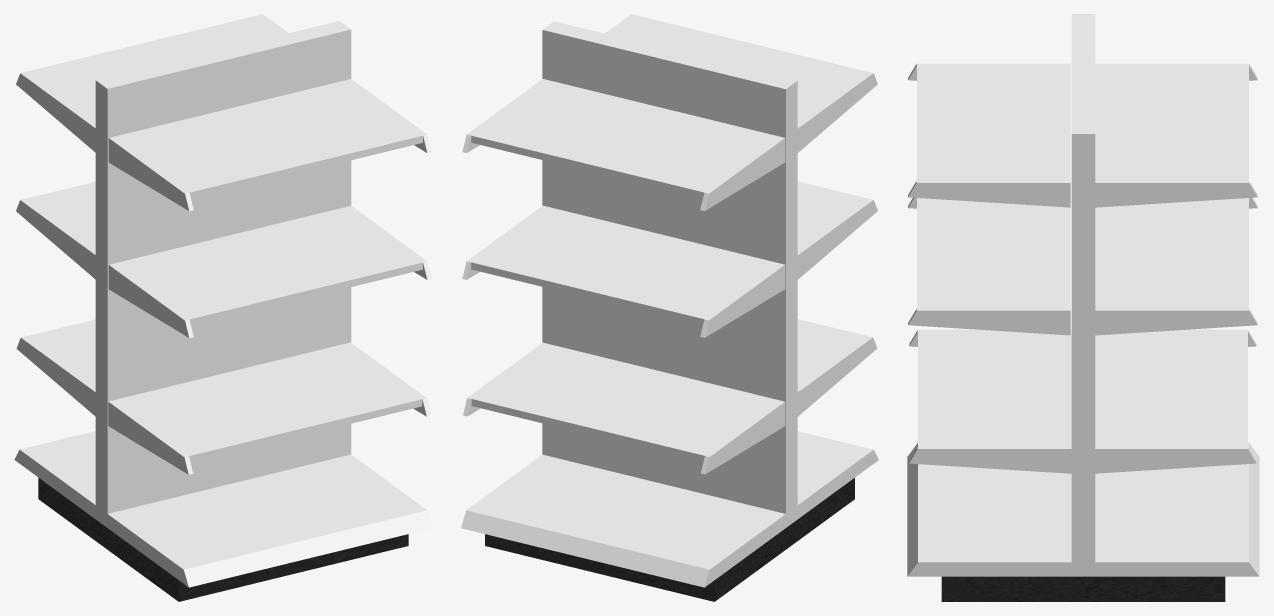
File: commerical_shelf.glb
3 views of the same model, side by side, from view 1: azimuth 30°, elevation 25°; view 2: azimuth 150°, elevation 25°; view 3: azimuth 270°, elevation 25° (orthographic).
Parts seen in each view (by area): view 1: Commerical_Shelf, Commerical_Shelf_Base, Commerical_Shelf_2_Shelf, Commerical_Shelf_2_Shelf.001, Commerical_Shelf_2_Shelf.002, Commerical_Shelf_2_Shelf.003, Commerical_Shelf_Bottom, Commerical_Shelf_2_Shelf.004, Commerical_Shelf_2_Shelf.005, Commerical_Shelf_2_Shelf_EndCapLeft.002, Commerical_Shelf_2_Shelf_EndCapLeft.001, Commerical_Shelf_2_Shelf_EndCapLeft (+6 smaller); view 2: Commerical_Shelf, Commerical_Shelf_Base, Commerical_Shelf_2_Shelf.004, Commerical_Shelf_2_Shelf.003, Commerical_Shelf_2_Shelf.005, Commerical_Shelf_2_Shelf.002, Commerical_Shelf_Bottom, Commerical_Shelf_2_Shelf.001, Commerical_Shelf_2_Shelf, Commerical_Shelf_2_Shelf_EndCapLeft.004, Commerical_Shelf_2_Shelf_EndCapLeft.003, Commerical_Shelf_2_Shelf_EndCapLeft.005 (+6 smaller); view 3: Commerical_Shelf_Base, Commerical_Shelf_2_Shelf.002, Commerical_Shelf_2_Shelf.003, Commerical_Shelf_2_Shelf, Commerical_Shelf_2_Shelf.005, Commerical_Shelf_2_Shelf.004, Commerical_Shelf_2_Shelf.001, Commerical_Shelf, Commerical_Shelf_Bottom, Commerical_Shelf_2_Shelf_EndCapRight.002, Commerical_Shelf_2_Shelf_EndCapRight.003, Commerical_Shelf_2_Shelf_EndCapRight.001 (+5 smaller).
Boxes of the visible parts, left/top/right/bottom form: Commerical_Shelf: left=95, top=21, right=351, bottom=513; Commerical_Shelf_Base: left=14, top=431, right=432, bottom=587; Commerical_Shelf_2_Shelf: left=113, top=343, right=422, bottom=462; Commerical_Shelf_2_Shelf.001: left=113, top=207, right=422, bottom=325; Commerical_Shelf_2_Shelf.002: left=114, top=80, right=422, bottom=199; Commerical_Shelf_2_Shelf.003: left=25, top=15, right=283, bottom=123; Commerical_Shelf_Bottom: left=38, top=477, right=408, bottom=601; Commerical_Shelf_2_Shelf.004: left=25, top=181, right=95, bottom=250; Commerical_Shelf_2_Shelf.005: left=25, top=319, right=95, bottom=387; Commerical_Shelf_2_Shelf_EndCapLeft.002: left=108, top=137, right=193, bottom=211; Commerical_Shelf_2_Shelf_EndCapLeft.001: left=108, top=264, right=193, bottom=337; Commerical_Shelf_2_Shelf_EndCapLeft: left=108, top=400, right=193, bottom=474; Commerical_Shelf: left=542, top=21, right=797, bottom=513; Commerical_Shelf_Base: left=461, top=431, right=878, bottom=587; Commerical_Shelf_2_Shelf.004: left=471, top=206, right=780, bottom=325; Commerical_Shelf_2_Shelf.003: left=471, top=80, right=780, bottom=198; Commerical_Shelf_2_Shelf.005: left=471, top=343, right=780, bottom=462; Commerical_Shelf_2_Shelf.002: left=609, top=15, right=868, bottom=123; Commerical_Shelf_Bottom: left=485, top=478, right=854, bottom=601; Commerical_Shelf_2_Shelf.001: left=797, top=181, right=868, bottom=250; Commerical_Shelf_2_Shelf: left=797, top=319, right=867, bottom=387; Commerical_Shelf_2_Shelf_EndCapLeft.004: left=700, top=263, right=785, bottom=337; Commerical_Shelf_2_Shelf_EndCapLeft.003: left=700, top=137, right=785, bottom=210; Commerical_Shelf_2_Shelf_EndCapLeft.005: left=700, top=400, right=785, bottom=474; Commerical_Shelf_Base: left=907, top=442, right=1259, bottom=576; Commerical_Shelf_2_Shelf.002: left=917, top=65, right=1070, bottom=180; Commerical_Shelf_2_Shelf.003: left=1095, top=65, right=1248, bottom=180; Commerical_Shelf_2_Shelf: left=918, top=332, right=1071, bottom=446; Commerical_Shelf_2_Shelf.005: left=1095, top=332, right=1247, bottom=446; Commerical_Shelf_2_Shelf.004: left=1095, top=198, right=1248, bottom=308; Commerical_Shelf_2_Shelf.001: left=917, top=198, right=1070, bottom=308; Commerical_Shelf: left=1071, top=14, right=1095, bottom=562; Commerical_Shelf_Bottom: left=941, top=576, right=1225, bottom=601; Commerical_Shelf_2_Shelf_EndCapRight.002: left=908, top=180, right=1070, bottom=207; Commerical_Shelf_2_Shelf_EndCapRight.003: left=1095, top=180, right=1257, bottom=207; Commerical_Shelf_2_Shelf_EndCapRight.001: left=908, top=308, right=1070, bottom=335.
Bounding box in the file's own units: 0.9144 × 1.68 × 1.13.
Materials: 4 (1 with a texture image).
